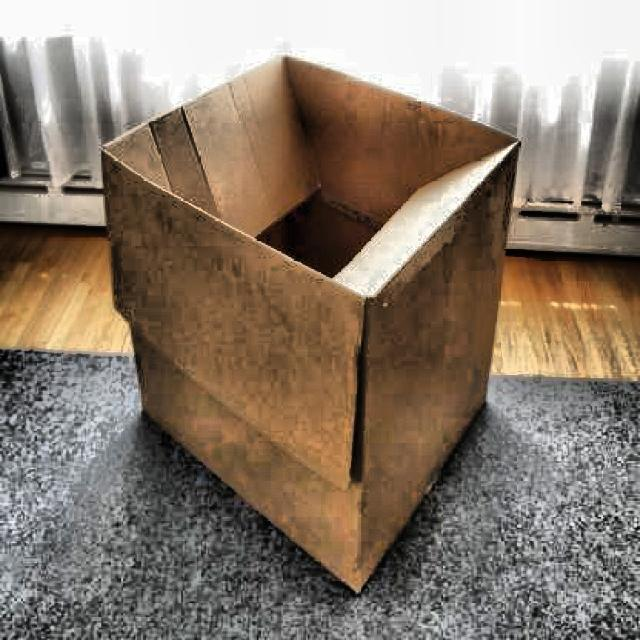Cardbox: (82, 31, 526, 604)
